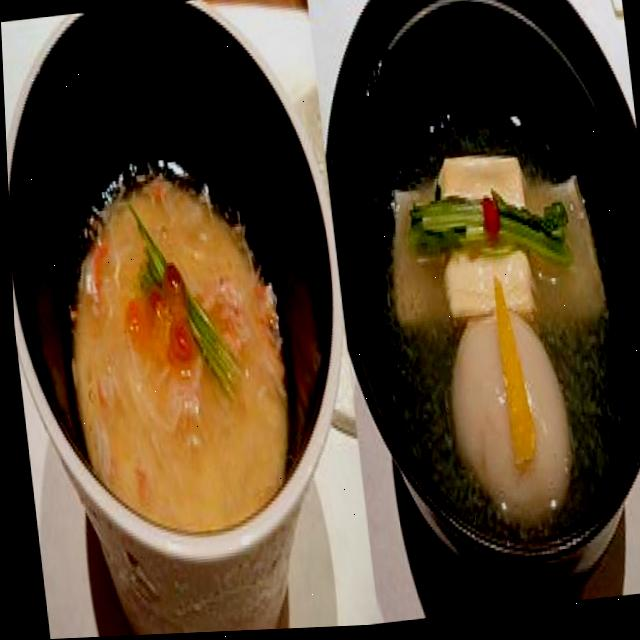鸡蛋料理: (7, 0, 330, 640)
